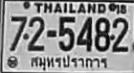2: (27, 16, 44, 50), (112, 16, 127, 51)
4: (76, 16, 91, 51)
5: (58, 16, 74, 50)
7: (9, 15, 26, 50)
8: (94, 17, 110, 51)
SPK: (29, 54, 109, 70)
